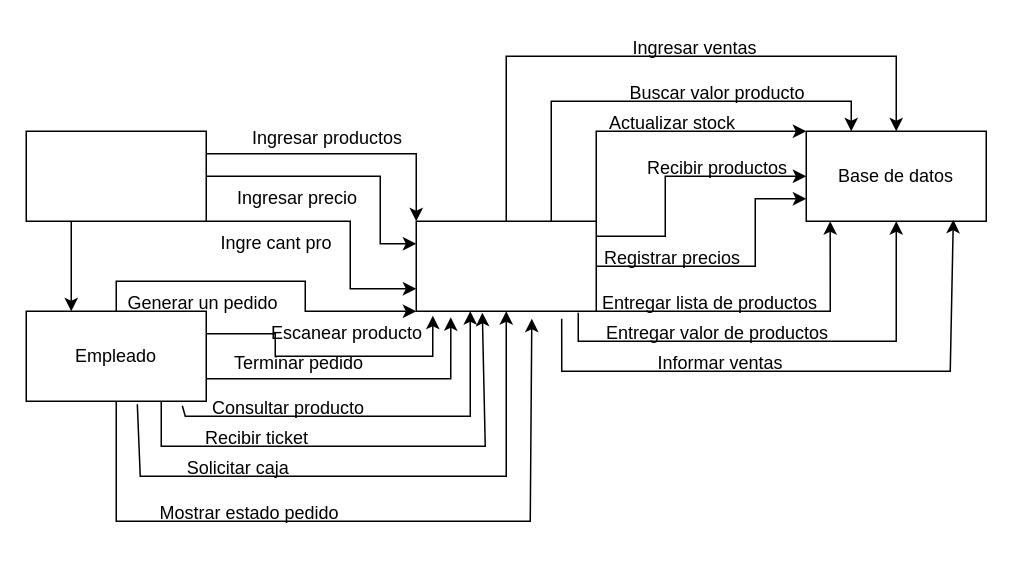
Image size: 1013x561. Some labels were removed from this diagram. Each missing label, with the centre of its shape:
"Kioskero" belongs at point 115,175.
"Sistema de gestión de un Kiosco" belongs at point 505,265.
